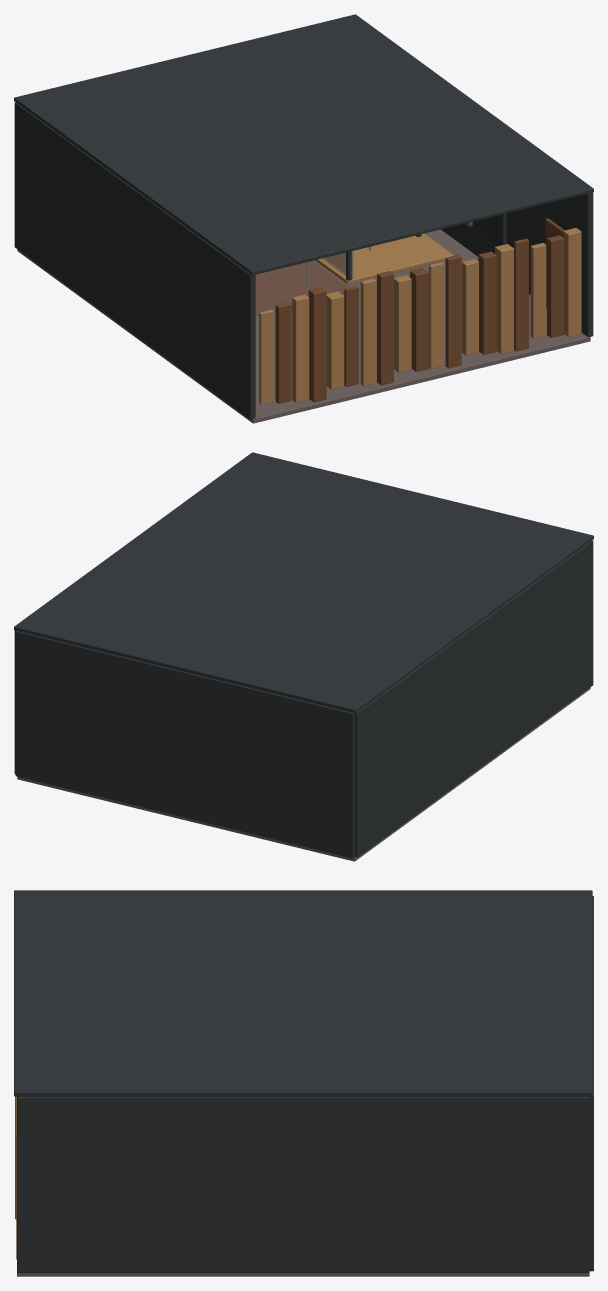
The model's file is recording_room_001.glb.
The picture shows the model from 3 angles, top to bottom: view 1: azimuth 30°, elevation 25°; view 2: azimuth 150°, elevation 25°; view 3: azimuth 270°, elevation 25°; orthographic projection. The views are drawn at different scales.
Parts seen in each view (by area): view 1: ceiling, left_acoustic_treatment, wood_floor, right_acoustic_treatment, vocal_booth_floor, live_room_rug, rear_diffuser_04, rear_diffuser_15, rear_diffuser_10, rear_diffuser_19, rear_diffuser_03, rear_diffuser_08 (+14 smaller); view 2: ceiling, front_acoustic_wall, left_acoustic_treatment, wood_floor; view 3: ceiling, right_acoustic_treatment, wood_floor, front_acoustic_wall.
Part boxes in pixels (<box>): ceiling: <box>14,14,593,275</box>; left_acoustic_treatment: <box>14,102,255,419</box>; wood_floor: <box>17,229,590,423</box>; right_acoustic_treatment: <box>441,192,593,337</box>; vocal_booth_floor: <box>315,233,453,284</box>; live_room_rug: <box>255,260,348,315</box>; rear_diffuser_04: <box>308,287,326,402</box>; rear_diffuser_15: <box>495,244,513,354</box>; rear_diffuser_10: <box>410,267,429,371</box>; rear_diffuser_19: <box>563,228,581,337</box>; rear_diffuser_03: <box>292,294,309,403</box>; rear_diffuser_08: <box>377,271,393,385</box>; ceiling: <box>14,452,593,713</box>; front_acoustic_wall: <box>15,630,354,858</box>; left_acoustic_treatment: <box>355,540,593,857</box>; wood_floor: <box>17,687,590,861</box>; ceiling: <box>14,890,592,1096</box>; right_acoustic_treatment: <box>17,1096,589,1272</box>; wood_floor: <box>17,1272,589,1276</box>; front_acoustic_wall: <box>589,896,593,1271</box>.
Bounding box in the file's own units: 9.66 × 4.16 × 11.65.
